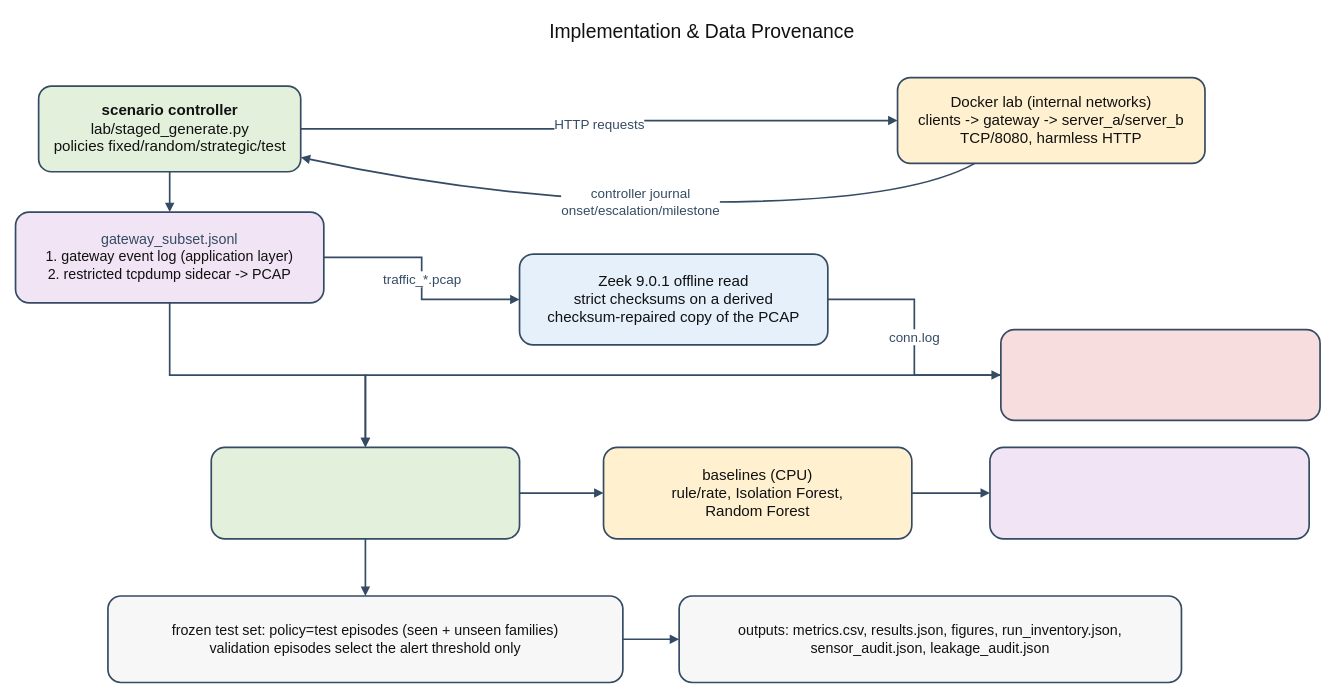
Some shapes in this 1335 by 697 pixel diagram are drawn without their labels. Each missing label, with the centre of its shape:
"early warning onset <= t_alert < milestone coverage-adjusted lead" belongs at point 1149,492.
"leakage-safe preprocessing episode split BEFORE windowing causal window features" belongs at point 365,492.
"strict sensor gate setup/staged_sensor_gate.py C1-C7 -> evidence tag" belongs at point 1160,374.
